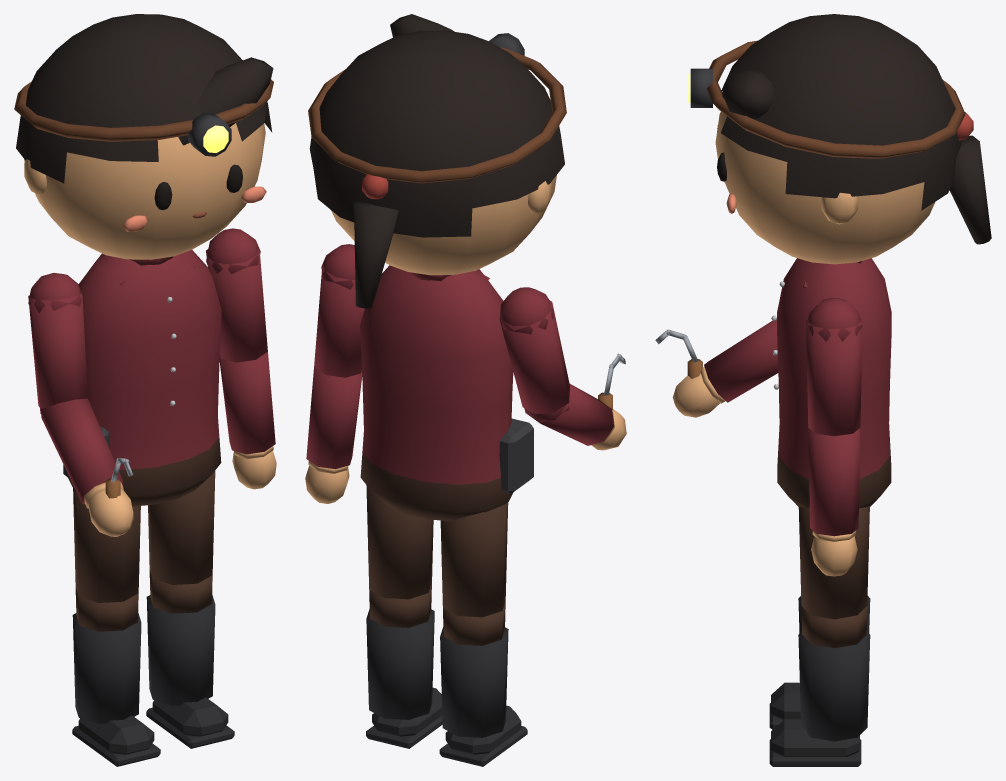
File: south_rubber_tapper.glb
3 renders of one model, left to right at view 1: azimuth 30°, elevation 25°; view 2: azimuth 150°, elevation 25°; view 3: azimuth 270°, elevation 25°, orthographic.
Visible parts, largest first — view 1: head, body, shin_R, shin_L, arm_R, forearm_R, arm_L, forearm_L, leg_L, leg_R, prop_tapping_knife; view 2: head, body, shin_R, shin_L, arm_R, leg_R, forearm_L, leg_L, arm_L, forearm_R; view 3: head, body, shin_L, arm_L, forearm_L, forearm_R, leg_L, shin_R, prop_tapping_knife.
Part boxes in pixels (x1=…): head: x1=14, y1=14, x2=273, y2=259; body: x1=63, y1=250, x2=221, y2=506; shin_R: x1=72, y1=587, x2=160, y2=766; shin_L: x1=146, y1=569, x2=234, y2=748; arm_R: x1=28, y1=273, x2=87, y2=417; forearm_R: x1=41, y1=398, x2=133, y2=536; arm_L: x1=206, y1=228, x2=267, y2=362; forearm_L: x1=219, y1=351, x2=276, y2=489; leg_L: x1=148, y1=471, x2=215, y2=584; leg_R: x1=73, y1=487, x2=140, y2=602; prop_tapping_knife: x1=105, y1=457, x2=133, y2=498; head: x1=308, y1=14, x2=566, y2=308; body: x1=360, y1=265, x2=533, y2=521; shin_R: x1=439, y1=601, x2=527, y2=766; shin_L: x1=366, y1=583, x2=442, y2=748; arm_R: x1=499, y1=287, x2=569, y2=423; leg_R: x1=440, y1=502, x2=508, y2=617; forearm_L: x1=305, y1=367, x2=362, y2=503; leg_L: x1=366, y1=485, x2=433, y2=599; arm_L: x1=314, y1=244, x2=364, y2=377; forearm_R: x1=525, y1=384, x2=626, y2=450; head: x1=688, y1=14, x2=991, y2=264; body: x1=771, y1=258, x2=891, y2=508; shin_L: x1=769, y1=606, x2=870, y2=766; arm_L: x1=806, y1=298, x2=862, y2=436; forearm_L: x1=808, y1=428, x2=860, y2=576; forearm_R: x1=672, y1=319, x2=778, y2=417; leg_L: x1=798, y1=506, x2=869, y2=619; shin_R: x1=769, y1=596, x2=870, y2=729; prop_tapping_knife: x1=655, y1=329, x2=702, y2=378.
Bounding box in the file's own units: 0.5408 × 1.46 × 0.6238.
